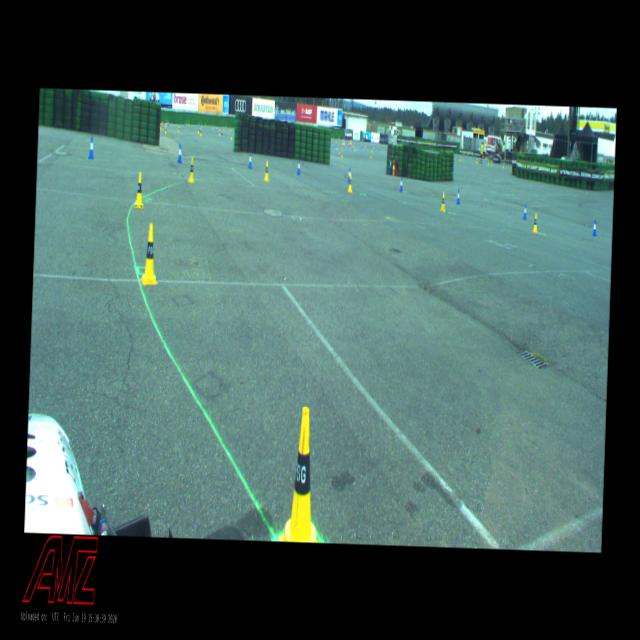blue_cone: (592, 218, 598, 236), (296, 158, 301, 174), (522, 203, 527, 219), (178, 142, 182, 162), (248, 151, 252, 168), (456, 188, 460, 204), (399, 176, 403, 191), (347, 166, 350, 182), (389, 158, 391, 168)
large_orange_cone: (88, 134, 94, 158), (342, 137, 344, 146), (341, 137, 343, 146), (349, 138, 350, 146), (350, 138, 351, 146)
yellow_cone: (278, 406, 322, 543), (140, 222, 158, 286), (134, 171, 144, 208), (188, 157, 195, 182), (263, 160, 269, 181), (532, 212, 538, 232), (440, 191, 445, 211), (348, 174, 352, 192), (392, 159, 394, 168)
